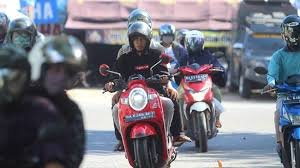motor: (97, 67, 182, 168), (176, 60, 219, 150), (264, 73, 300, 165)
